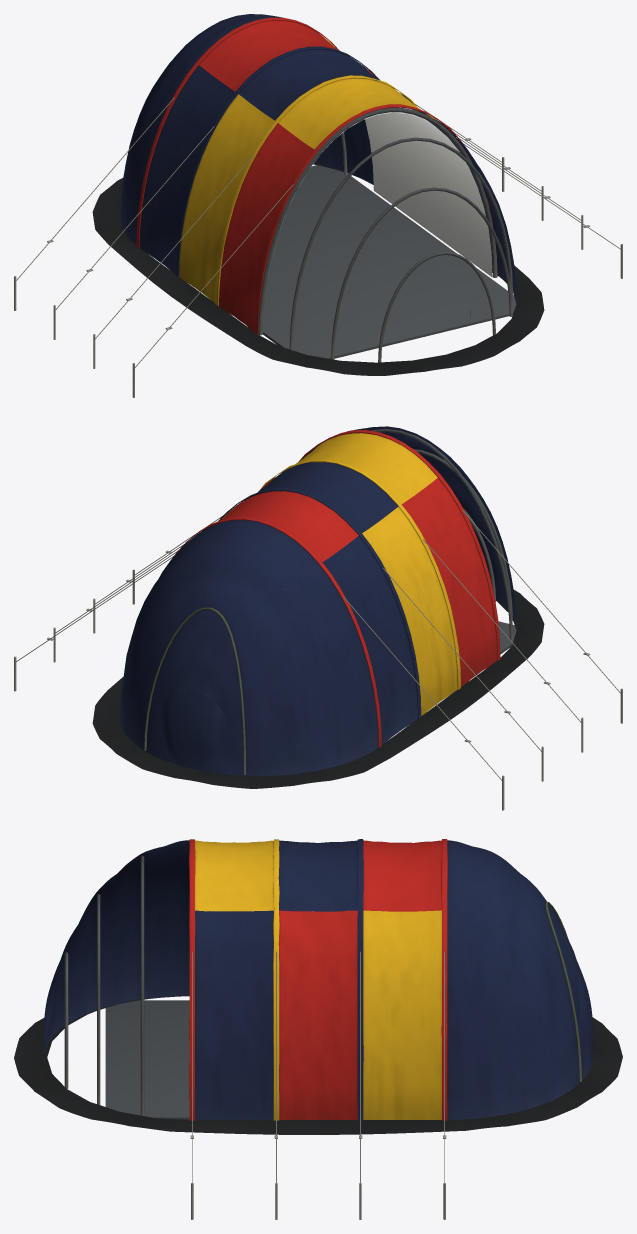
File: endurance-ar.glb
3 renders of one model, top to bottom at view 1: azimuth 30°, elevation 25°; view 2: azimuth 150°, elevation 25°; view 3: azimuth 270°, elevation 25°, orthographic. The views are drawn at different scales.
Visible parts, largest first — view 1: ENDURANCE_shelter, ENDURANCE_interior; view 2: ENDURANCE_shelter; view 3: ENDURANCE_shelter.
Part boxes in pixels (left/top/right/bottom): ENDURANCE_shelter: left=14, top=14, right=622, bottom=397; ENDURANCE_interior: left=262, top=107, right=492, bottom=333; ENDURANCE_shelter: left=14, top=426, right=622, bottom=810; ENDURANCE_shelter: left=14, top=839, right=622, bottom=1219.
Bounding box in the file's own units: 5.42 × 2.44 × 5.49.
Materials: 11 (7 with a texture image).
